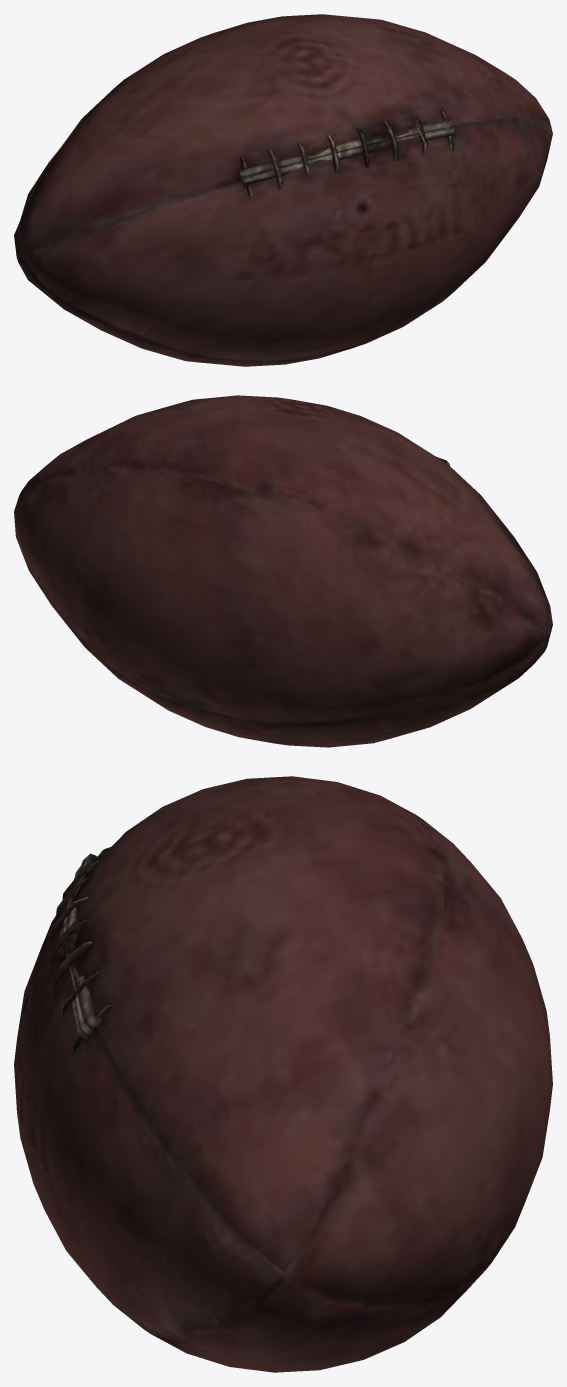
Rendered from american_football.l.ab5bbaf9.glb.
3 renders of one model, top to bottom at view 1: azimuth 30°, elevation 25°; view 2: azimuth 150°, elevation 25°; view 3: azimuth 270°, elevation 25°, orthographic. The views are drawn at different scales.
Parts seen in each view (by area): view 1: american_football; view 2: american_football; view 3: american_football.
Part boxes in pixels (x1,y1,x2,y2): american_football: (14,14,552,366); american_football: (14,395,552,747); american_football: (14,776,552,1372).
Bounding box in the file's own units: 0.4533 × 0.2558 × 0.2558.
1 material, 1 textured.
